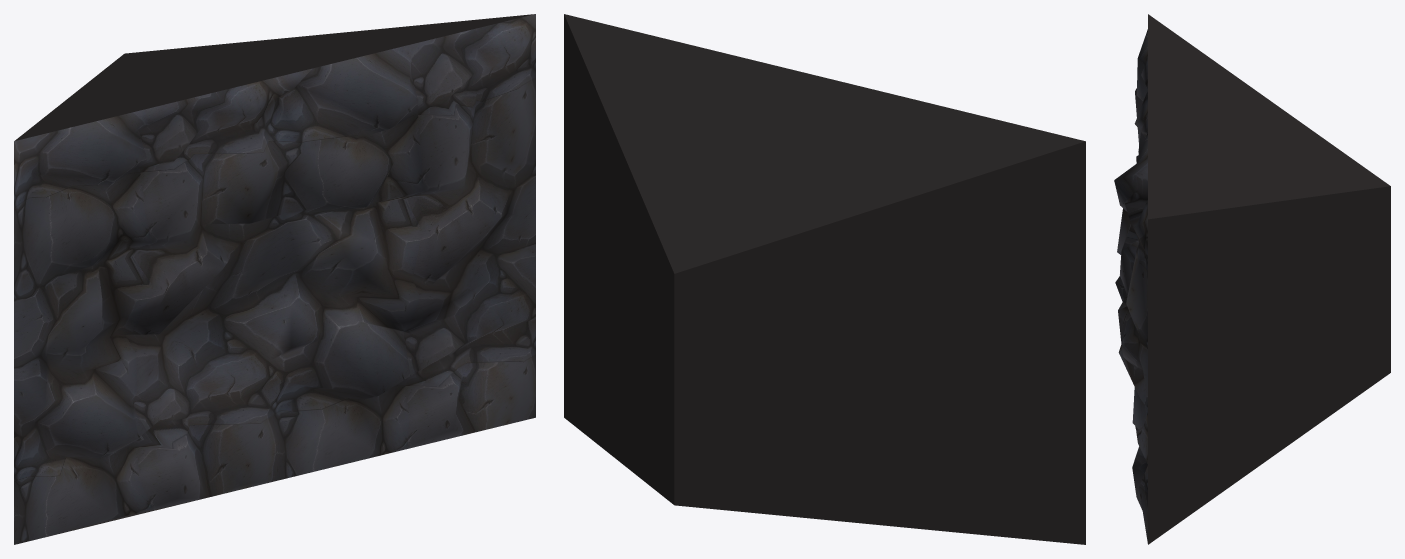
The model's file is Wall_stone.004.fbx.
3 views of the same model, side by side, from view 1: azimuth 30°, elevation 25°; view 2: azimuth 150°, elevation 25°; view 3: azimuth 270°, elevation 25° (orthographic). The views are drawn at different scales.
Parts seen in each view (by area): view 1: Wall_stone.004; view 2: Wall_stone.004; view 3: Wall_stone.004.
Part boxes in pixels (<box>): Wall_stone.004: <box>14,14,535,544</box>; Wall_stone.004: <box>564,14,1085,544</box>; Wall_stone.004: <box>1114,14,1390,544</box>.
Bounding box in the file's own units: 400 × 296 × 228.
